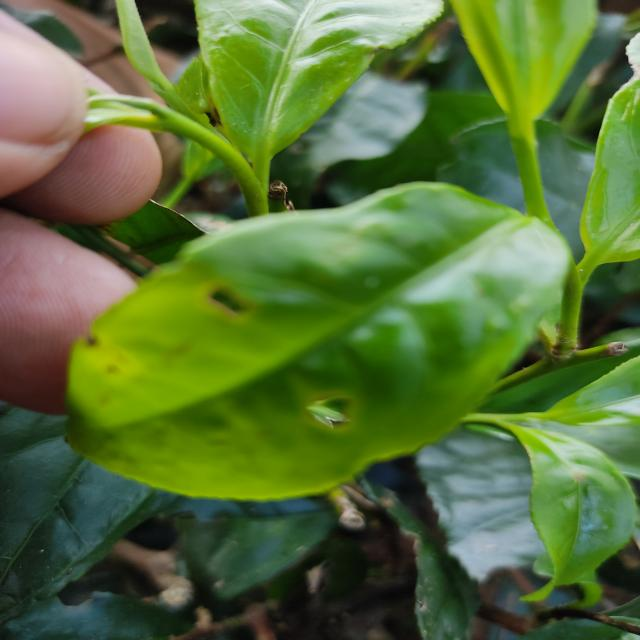Category B 2-4 days: (52, 170, 580, 508)
